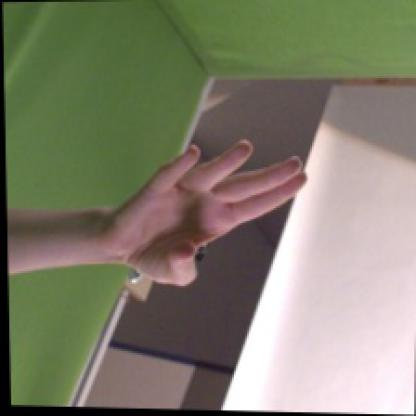Hand: (99, 140, 309, 287)
